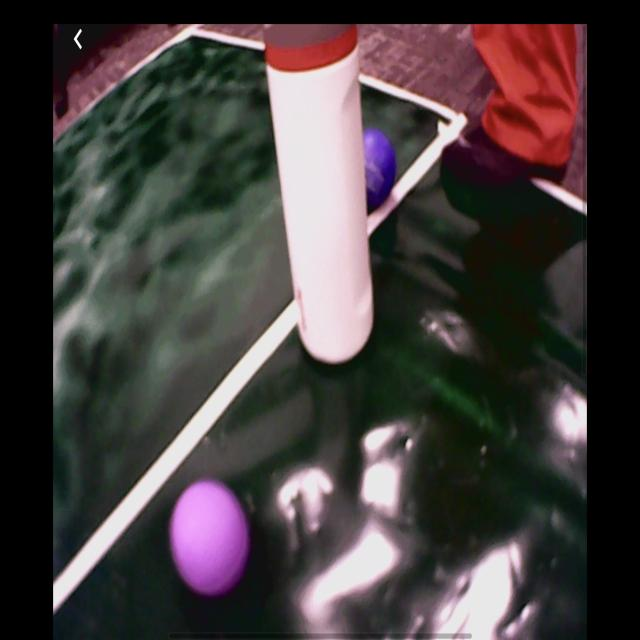ball: (172, 480, 249, 598), (365, 131, 398, 215)
